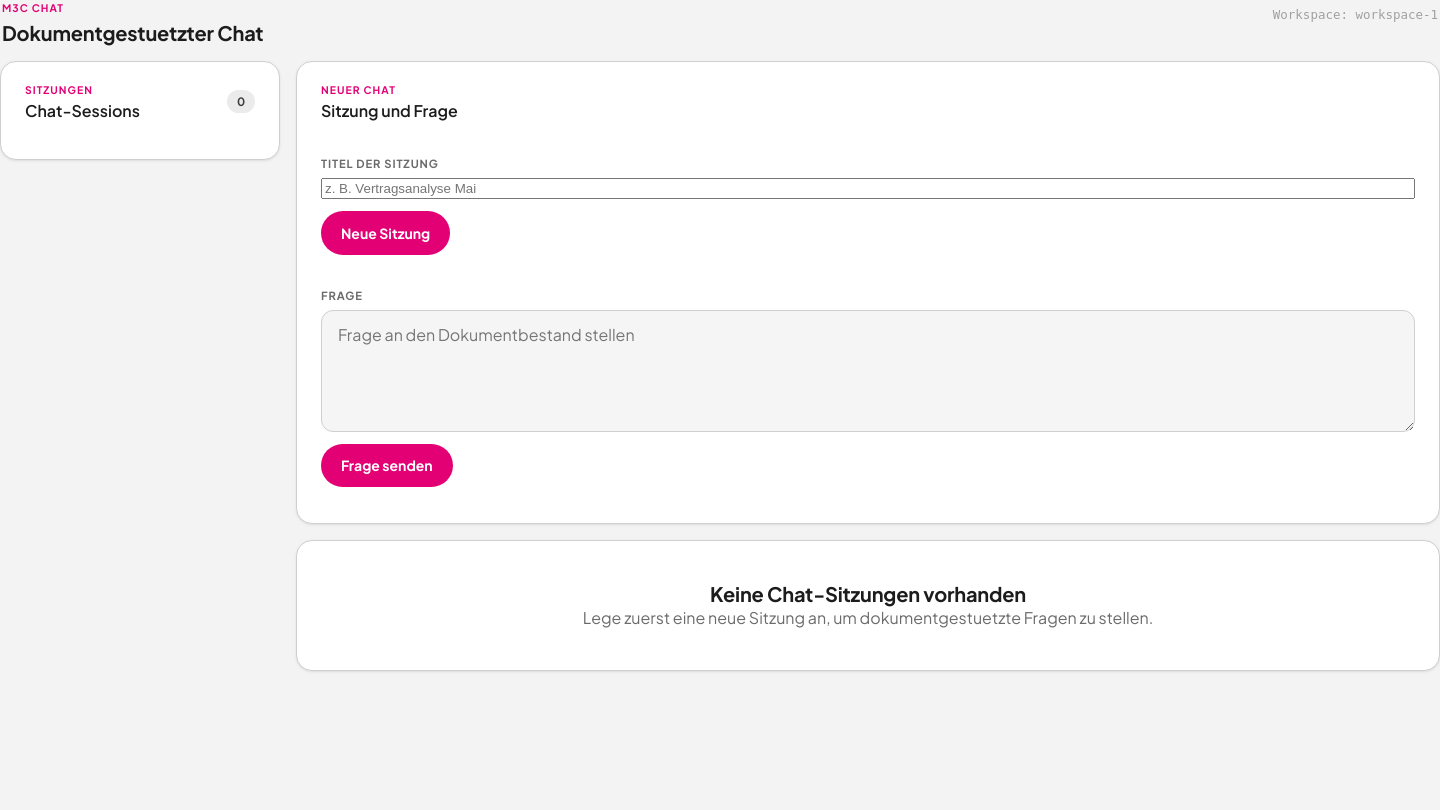
Test case: ChatPage › creates a new session and sends a question to the real chat api contract
Expected: the heading "Keine Chat-Sitzungen vorhanden" is shown, [710,581,1026,606]
Type "Neue Analyse" into the field with placeholder "z. B. Vertragsanalyse Mai".
click(868, 189); type("Neue Analyse")  # box [321,178,1415,199]
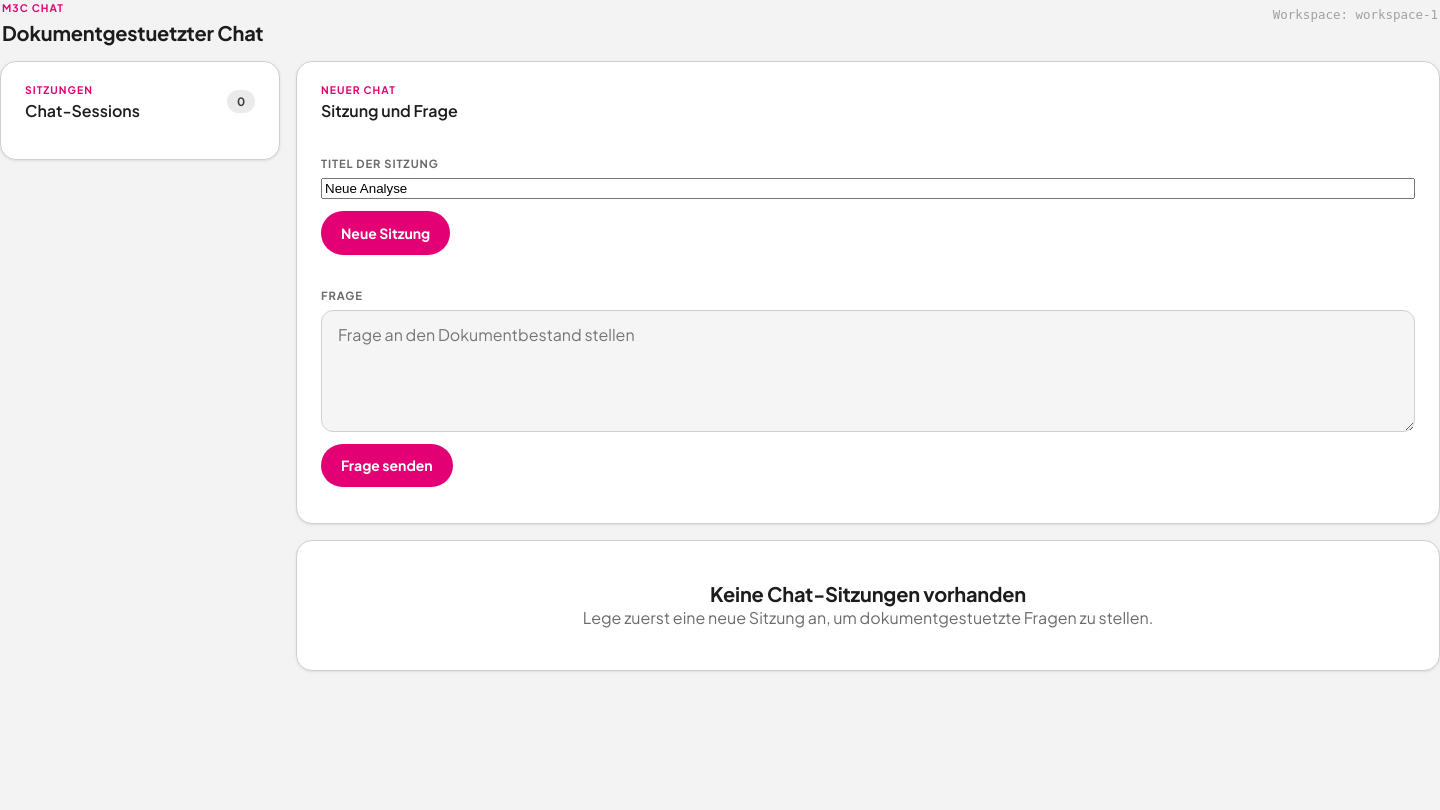
Click the button "Neue Sitzung".
click(386, 233)  # box [321,211,450,255]
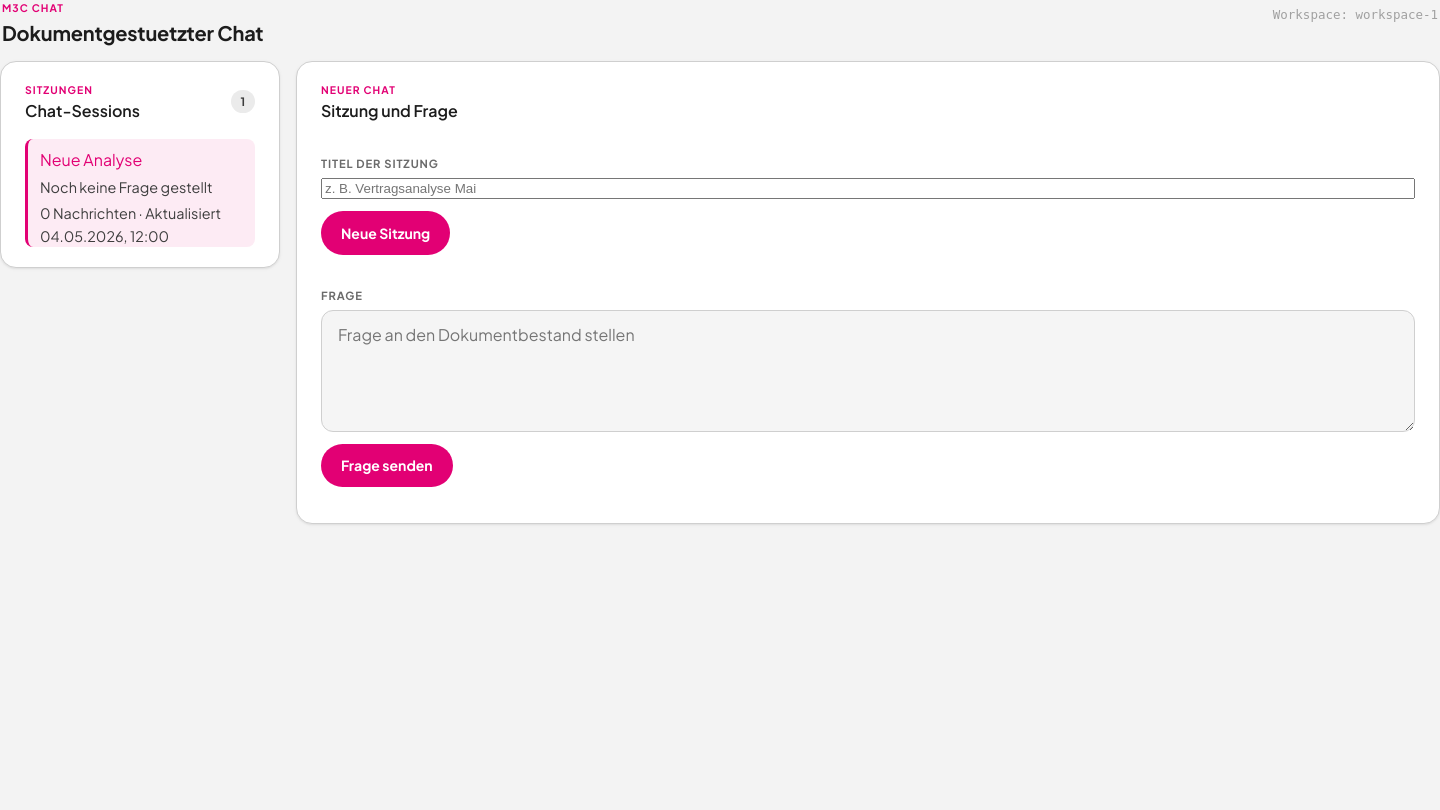
Expected: the button "Frage senden" is shown, [321,444,453,487]
Expected: the link "Neue Analyse" is shown, [40,149,142,170]
Type "Welche Frist gilt?" into the text box with placeholder "Frage an den Dokumentbestand stellen".
click(868, 371); type("Welche Frist gilt?")  # box [321,310,1415,432]
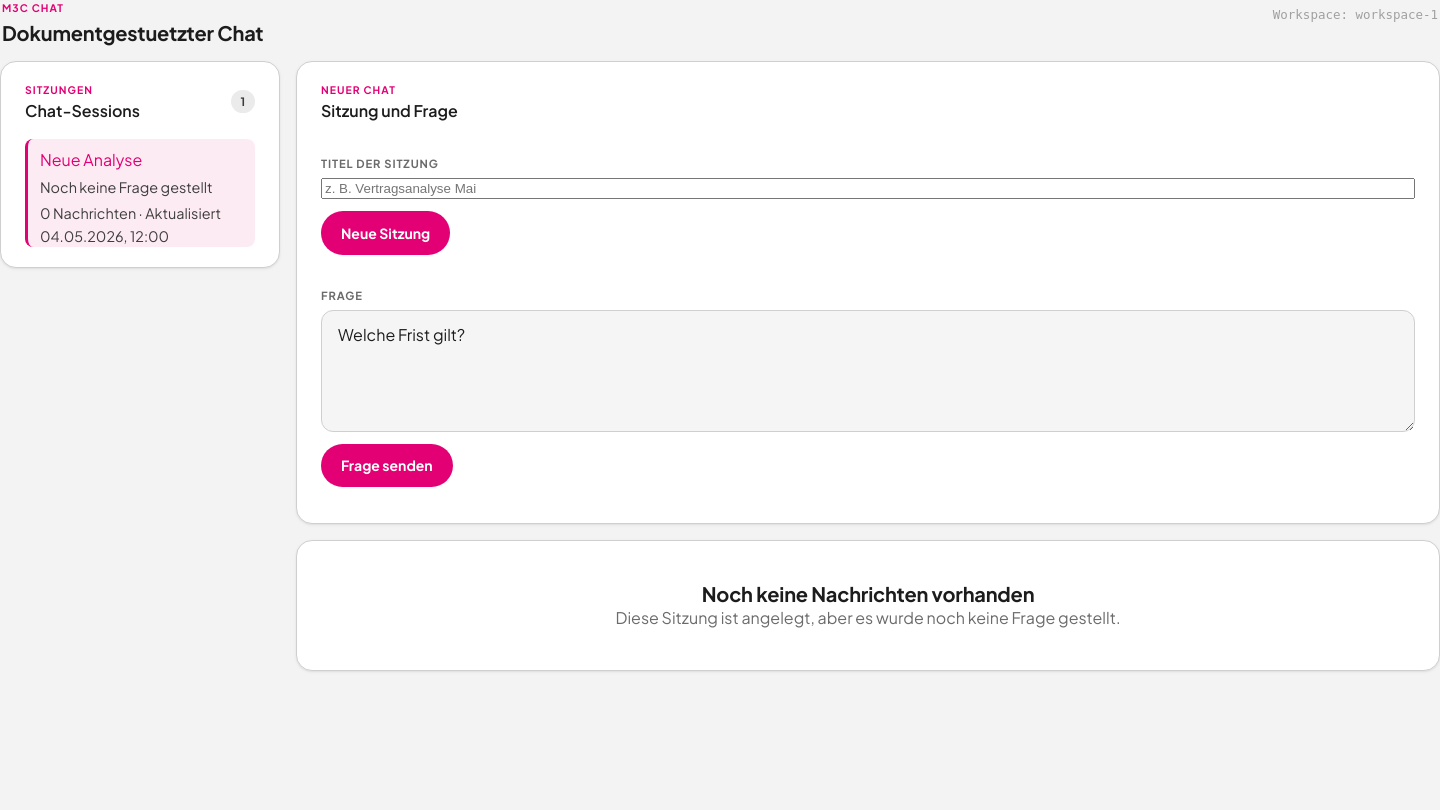
Click the button "Frage senden".
click(387, 466)  # box [321,444,453,487]
(page scrolled)
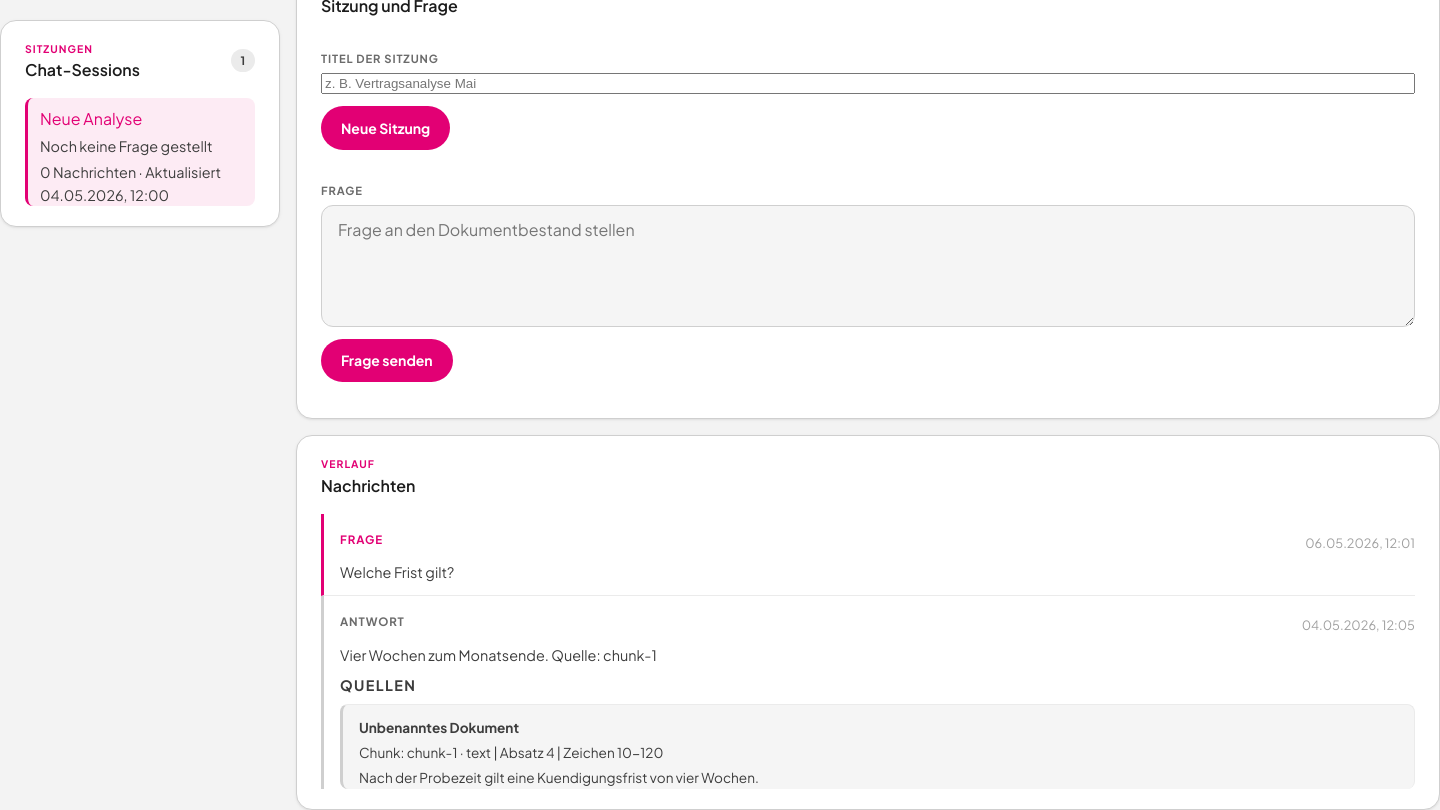
Expected: the text "Vier Wochen zum Monatsende. Quelle: chunk-1" is shown, [340,646,657,664]
Expected: the text "Unbenanntes Dokument" is shown, [359,719,519,736]
Expected: the text "Chunk: chunk-1 · text | Absatz 4 | Zeichen 10-120" is shown, [359,744,663,761]
